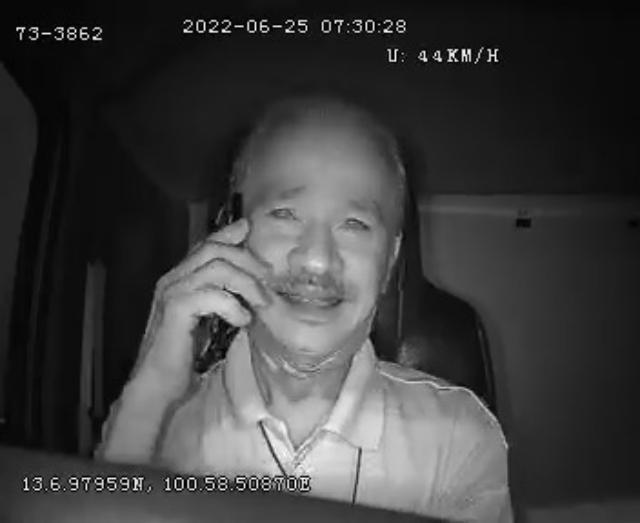PhoneUse: (188, 193, 248, 374)
SafeDriving: (330, 200, 380, 243), (258, 193, 306, 229)
